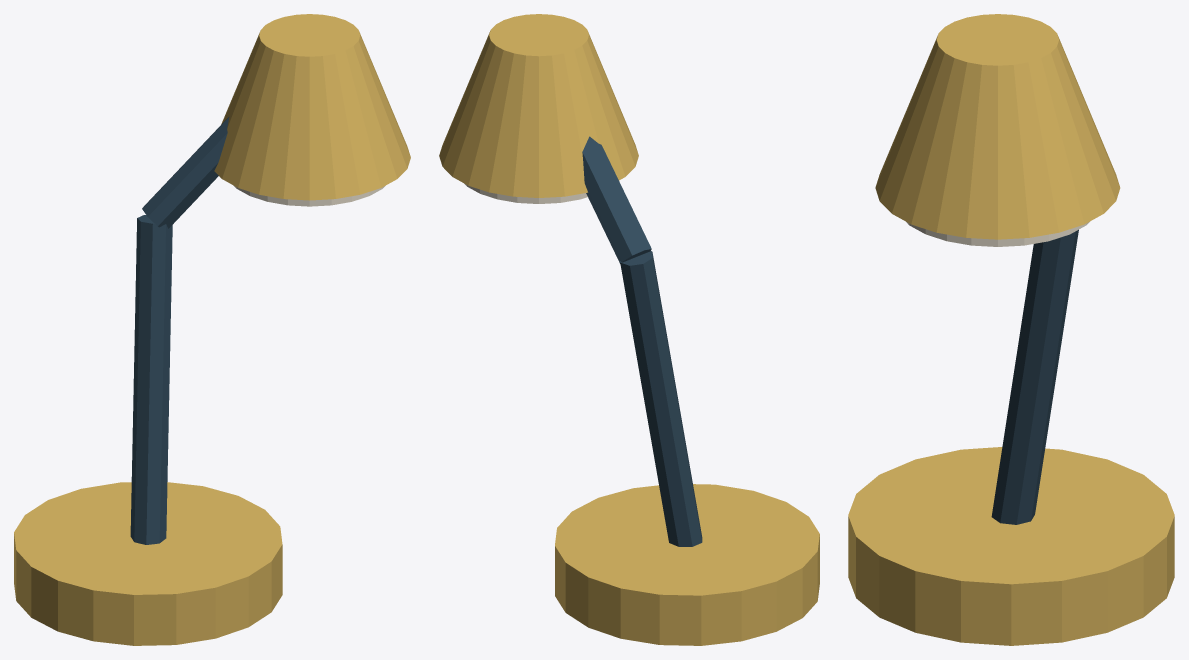
The model's file is desk_lamp.glb.
The picture shows the model from 3 angles, left to right: view 1: azimuth 30°, elevation 25°; view 2: azimuth 150°, elevation 25°; view 3: azimuth 270°, elevation 25°; orthographic projection. The views are drawn at different scales.
Parts seen in each view (by area): view 1: desk_lamp_Mesh; view 2: desk_lamp_Mesh; view 3: desk_lamp_Mesh.
Boxes of the visible parts, bbox=[...] form: desk_lamp_Mesh: bbox=[14, 14, 410, 645]; desk_lamp_Mesh: bbox=[439, 14, 819, 645]; desk_lamp_Mesh: bbox=[848, 14, 1174, 645].
Bounding box in the file's own units: 0.37 × 0.51 × 0.24.
